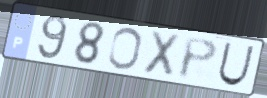8: (72, 20, 106, 67)
9: (35, 13, 70, 61)
O: (106, 26, 144, 72)
P: (177, 35, 220, 82)
U: (215, 41, 256, 88)
X: (140, 28, 184, 80)
